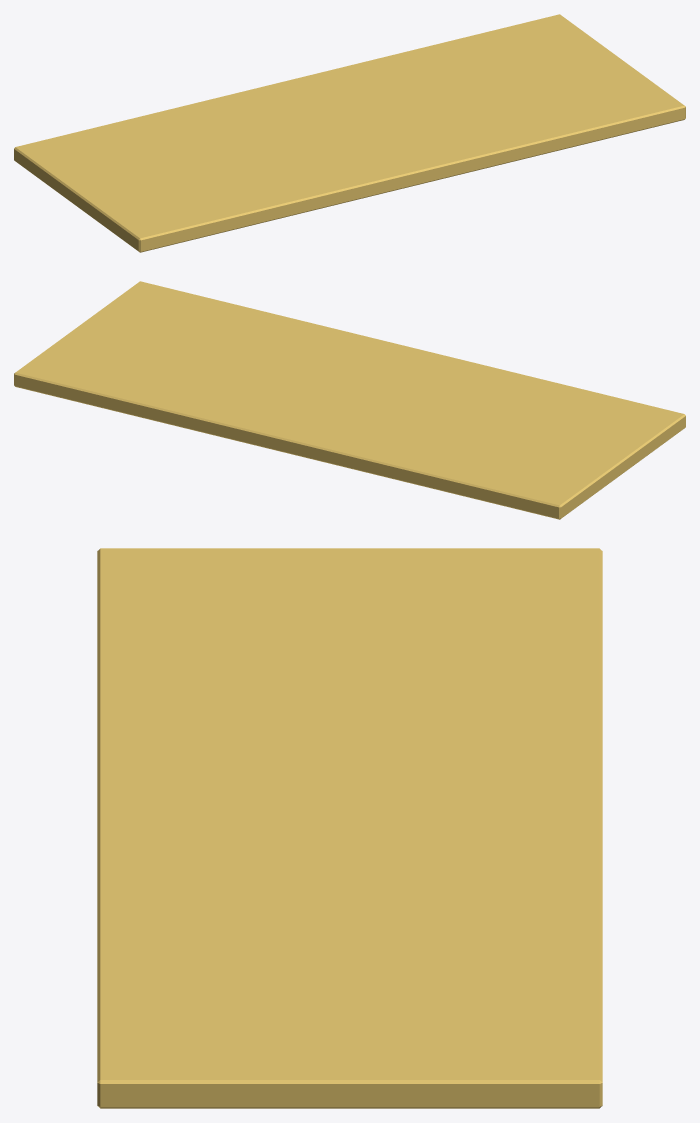
The model's file is SM_Deck_8x0p2x3p2.glb.
3 views of the same model, one above another, from view 1: azimuth 30°, elevation 25°; view 2: azimuth 150°, elevation 25°; view 3: azimuth 270°, elevation 25° (orthographic). The views are drawn at different scales.
Visible parts, largest first — view 1: SM_Deck_8x0p2x3p2; view 2: SM_Deck_8x0p2x3p2; view 3: SM_Deck_8x0p2x3p2.
Part boxes in pixels (x1,y1,x2,y2): SM_Deck_8x0p2x3p2: (14, 14, 685, 252); SM_Deck_8x0p2x3p2: (14, 281, 685, 519); SM_Deck_8x0p2x3p2: (97, 548, 602, 1108).
Bounding box in the file's own units: 8 × 0.2682 × 3.2.
